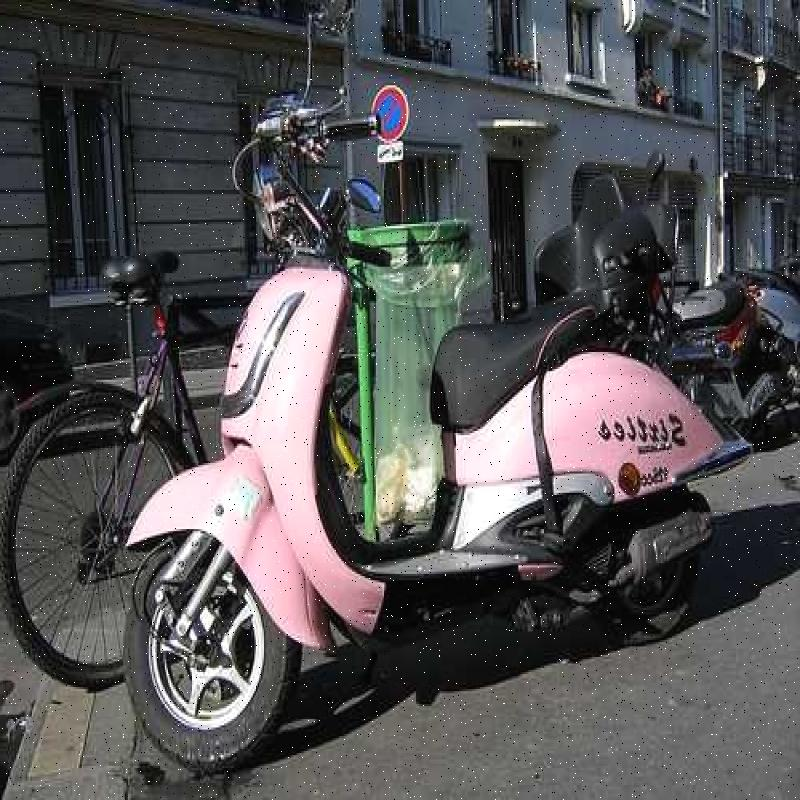bike: (126, 63, 722, 768)
